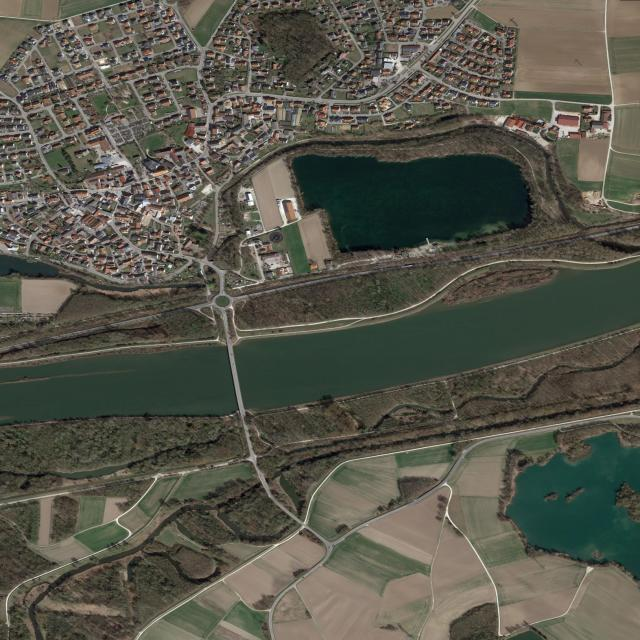large-vehicle: (405, 265, 413, 267)
